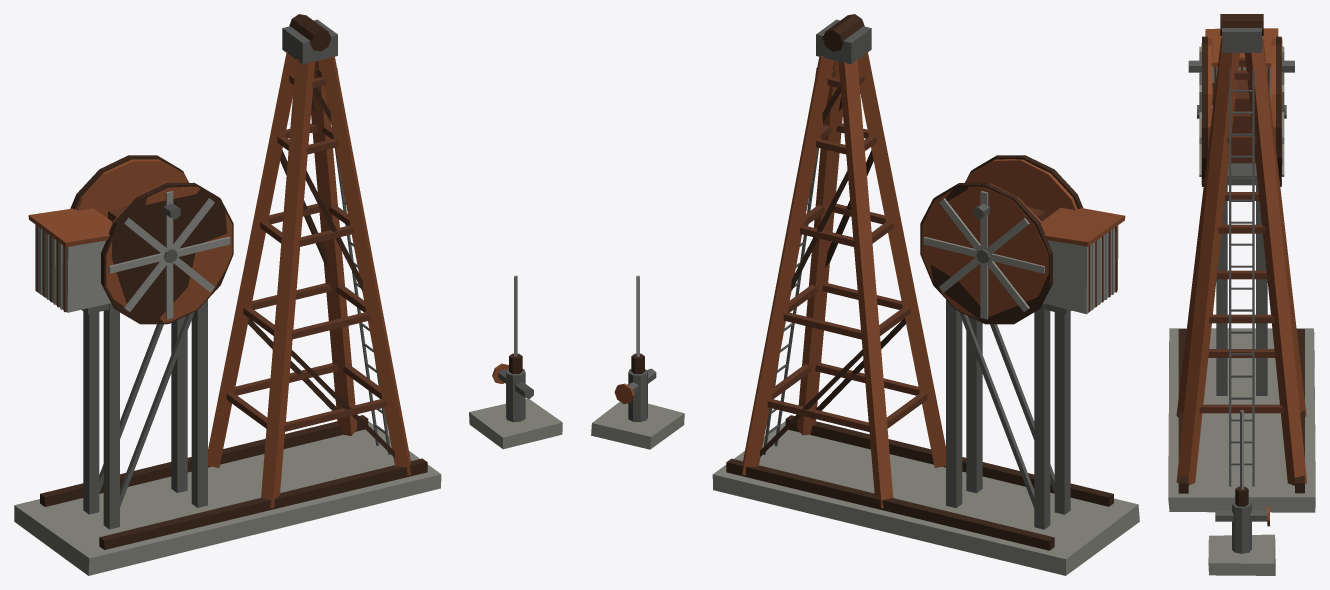
Rendered from pumpjack_base.glb.
The picture shows the model from 3 angles, left to right: view 1: azimuth 30°, elevation 25°; view 2: azimuth 150°, elevation 25°; view 3: azimuth 270°, elevation 25°; orthographic projection. The views are drawn at different scales.
Visible parts, largest first — view 1: pumpjack_base; view 2: pumpjack_base; view 3: pumpjack_base.
Boxes of the visible parts, x1=… form: pumpjack_base: x1=14, y1=14, x2=562, y2=575; pumpjack_base: x1=591, y1=14, x2=1139, y2=575; pumpjack_base: x1=1168, y1=14, x2=1315, y2=575.
Bounding box in the file's own units: 16.97 × 15.08 × 4.44.
